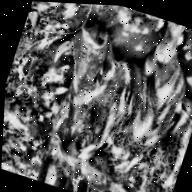boar: (16, 1, 192, 192)
